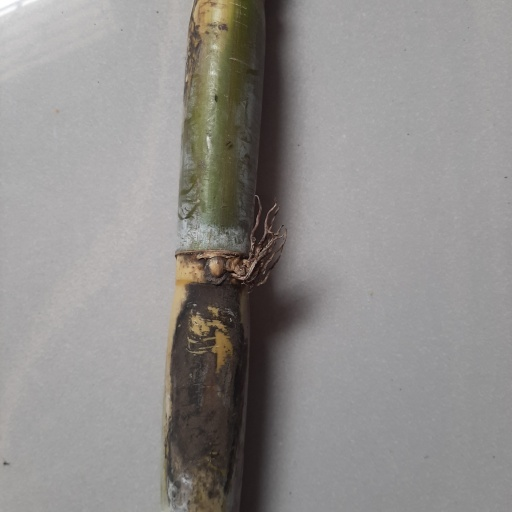Bud: (205, 256, 227, 280)
